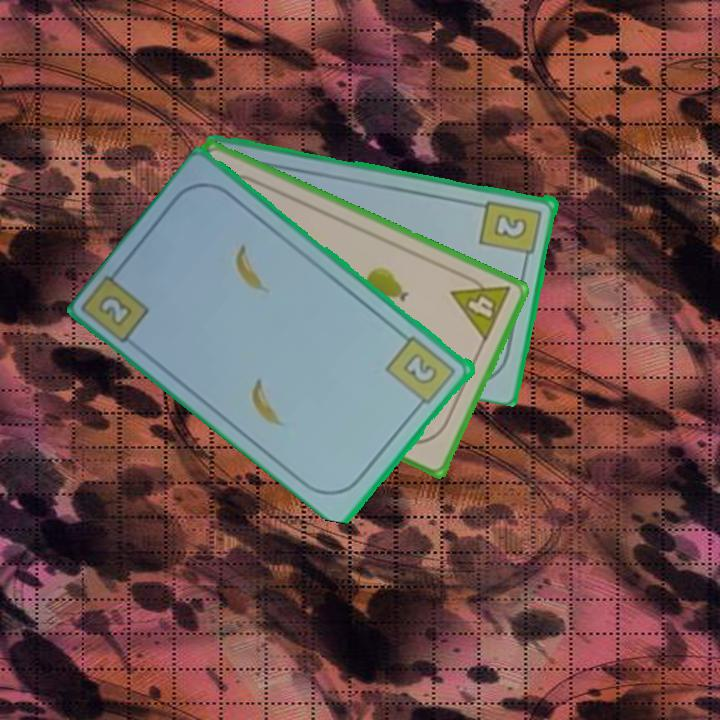2b: (383, 332, 459, 412), (477, 197, 545, 266), (98, 291, 136, 330)
4p: (447, 268, 514, 345)
